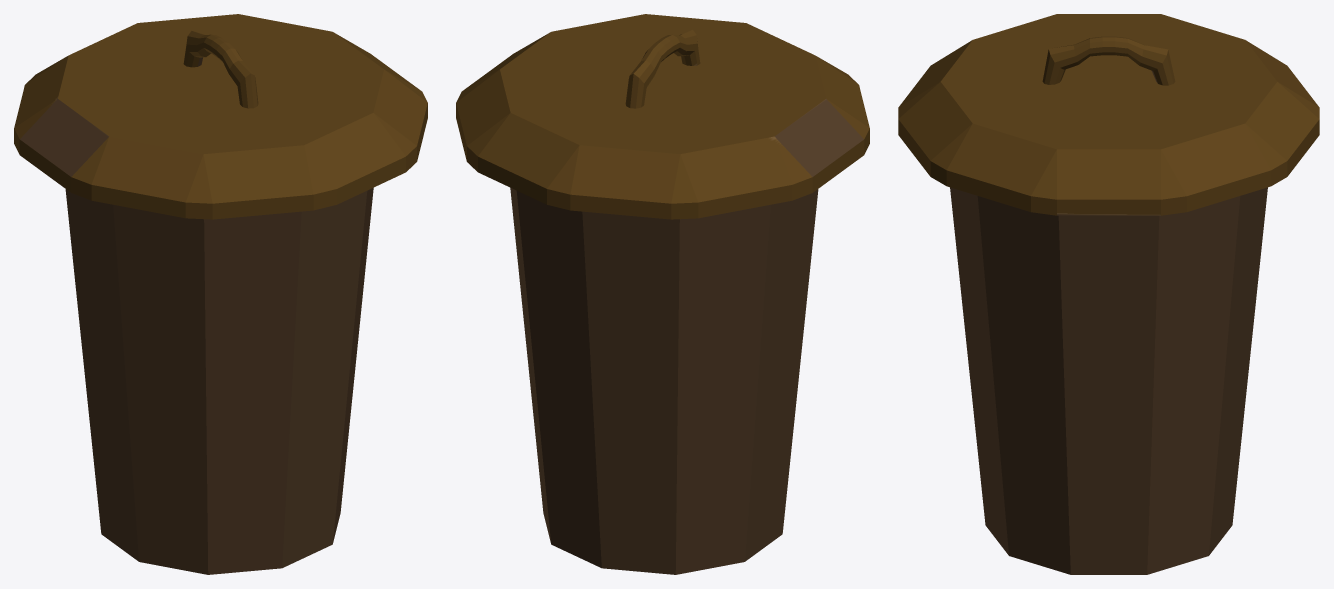
File: trash.fbx
3 renders of one model, left to right at view 1: azimuth 30°, elevation 25°; view 2: azimuth 150°, elevation 25°; view 3: azimuth 270°, elevation 25°, orthographic.
Visible parts, largest first — view 1: Cylinder.001; view 2: Cylinder.001; view 3: Cylinder.001.
Part boxes in pixels (x1,y1,x2,y2): Cylinder.001: (14, 14, 427, 574); Cylinder.001: (456, 14, 869, 574); Cylinder.001: (898, 14, 1319, 574).
Bounding box in the file's own units: 464 × 611 × 478.
